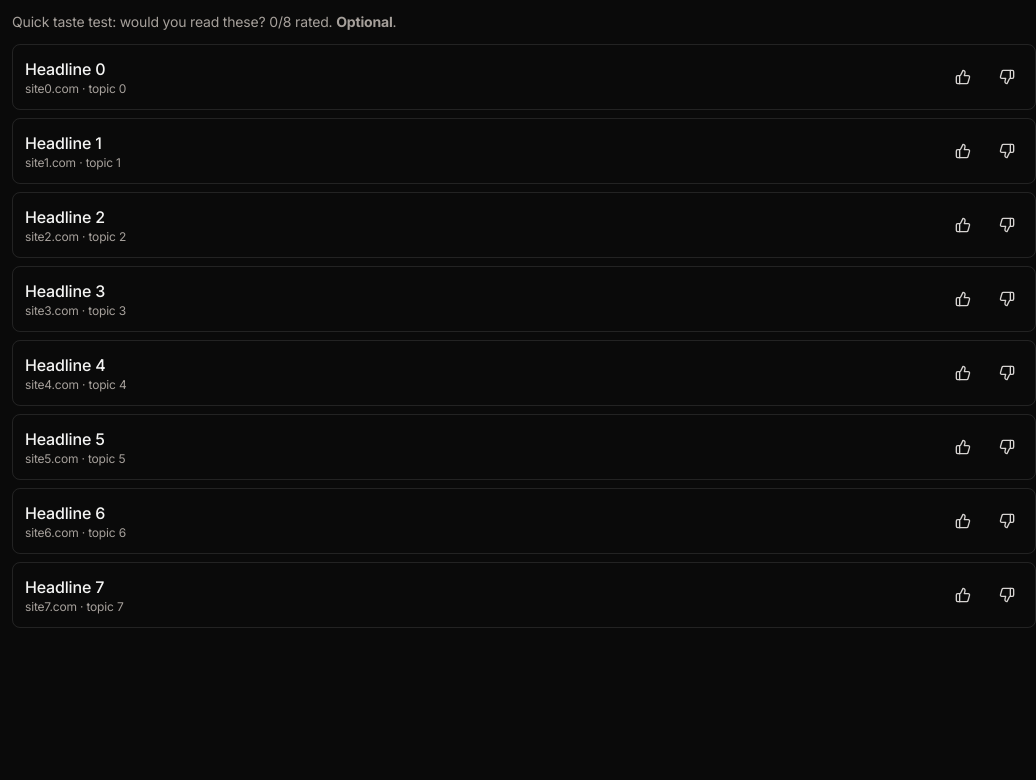
Test case: CalibrationStep (#149) › shows 8 real headlines and sends each rating
This screenshot has width=1036, height=780.
expect the text "Headline 0" is shown: met, box [25,59,105,79]
expect the text "site3.com · topic 3" is shown: met, box [25,303,126,318]
Click the button named "More like Headline 2". click: (963, 225)
box: [947,213,979,237]
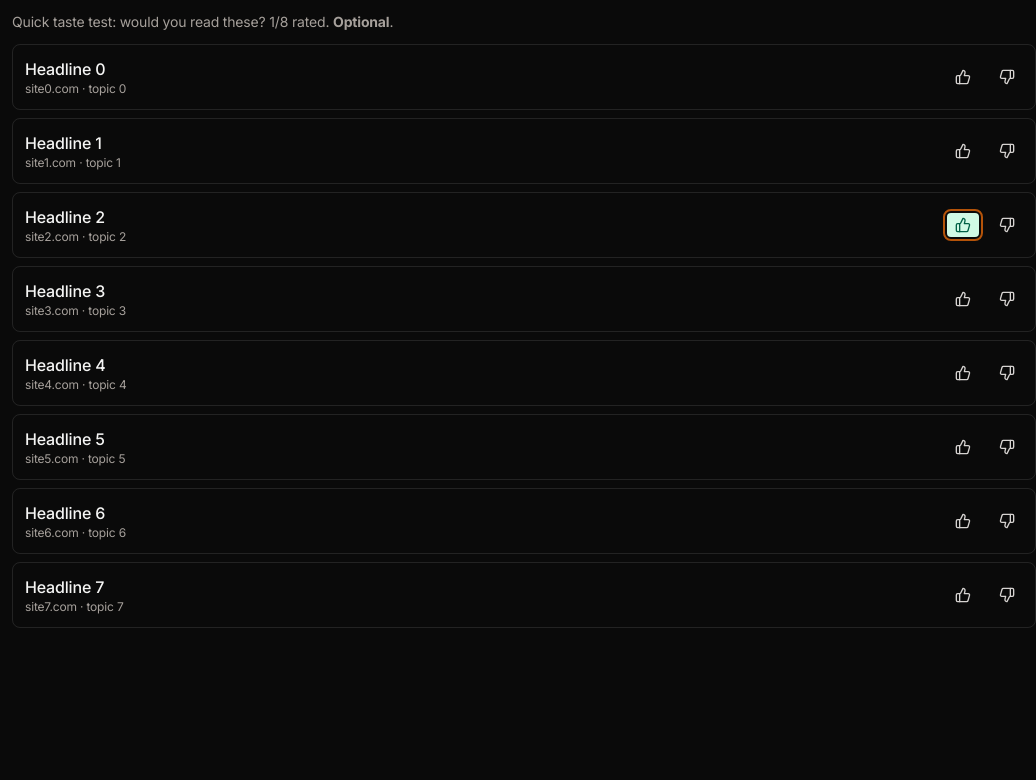
Click the button named "Less like Headline 5". click: (1007, 447)
box: [991,435,1023,459]
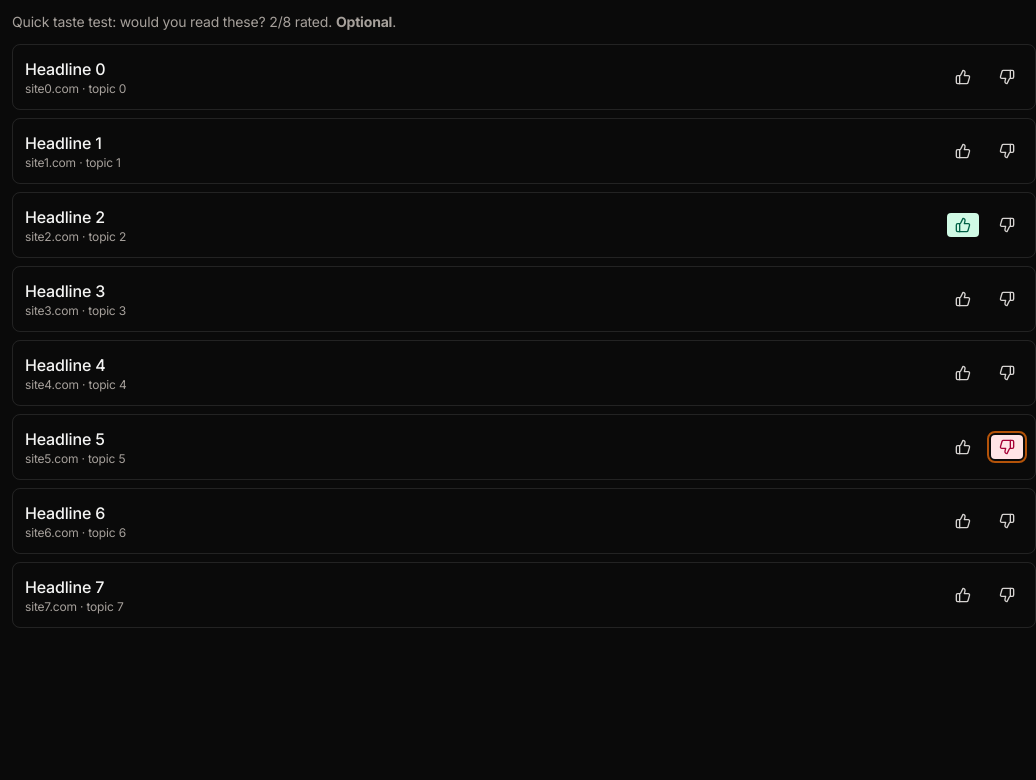
expect the text "Quick taste test: would you read these? 2/8 rated. Optional." is shown: met, box [12,13,396,30]
